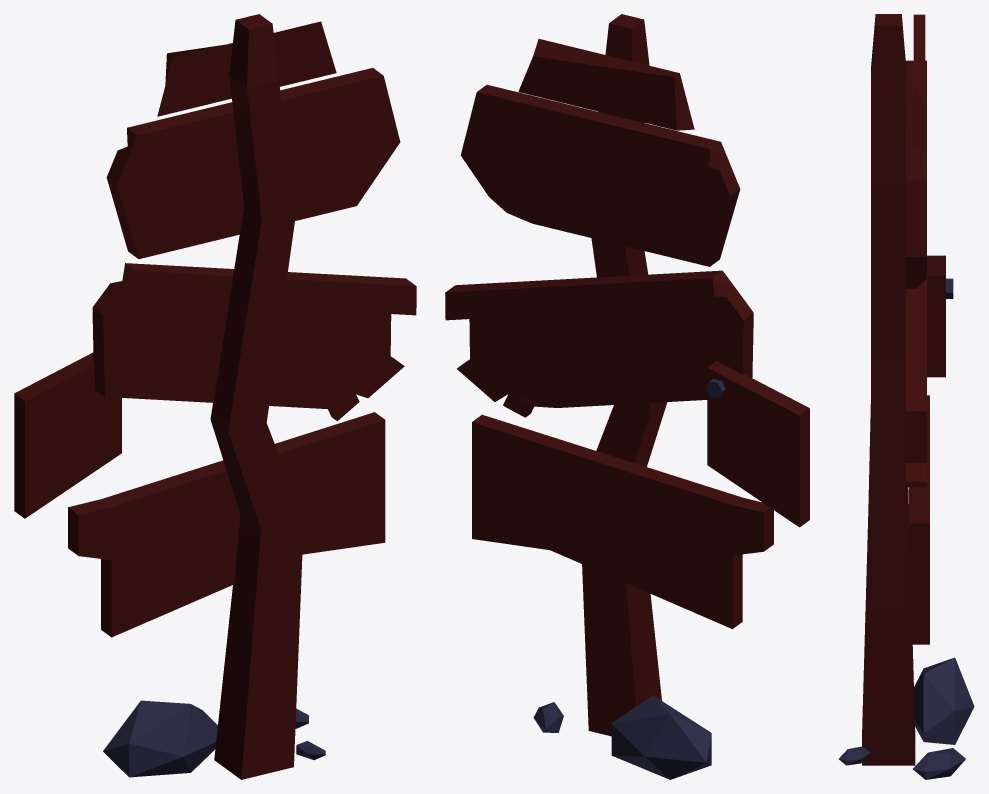
The model's file is panneau_v01.fbx.
3 views of the same model, side by side, from view 1: azimuth 30°, elevation 25°; view 2: azimuth 150°, elevation 25°; view 3: azimuth 270°, elevation 25° (orthographic). The views are drawn at different scales.
Parts seen in each view (by area): view 1: panneau_01; view 2: panneau_01; view 3: panneau_01.
Boxes of the visible parts, <box> form: panneau_01: <box>14,14,416,779</box>; panneau_01: <box>445,14,809,779</box>; panneau_01: <box>839,14,974,779</box>.
Size of the model in its own units: 1.57 by 2.96 by 0.4901.
Materials: 2 (2 with a texture image).
